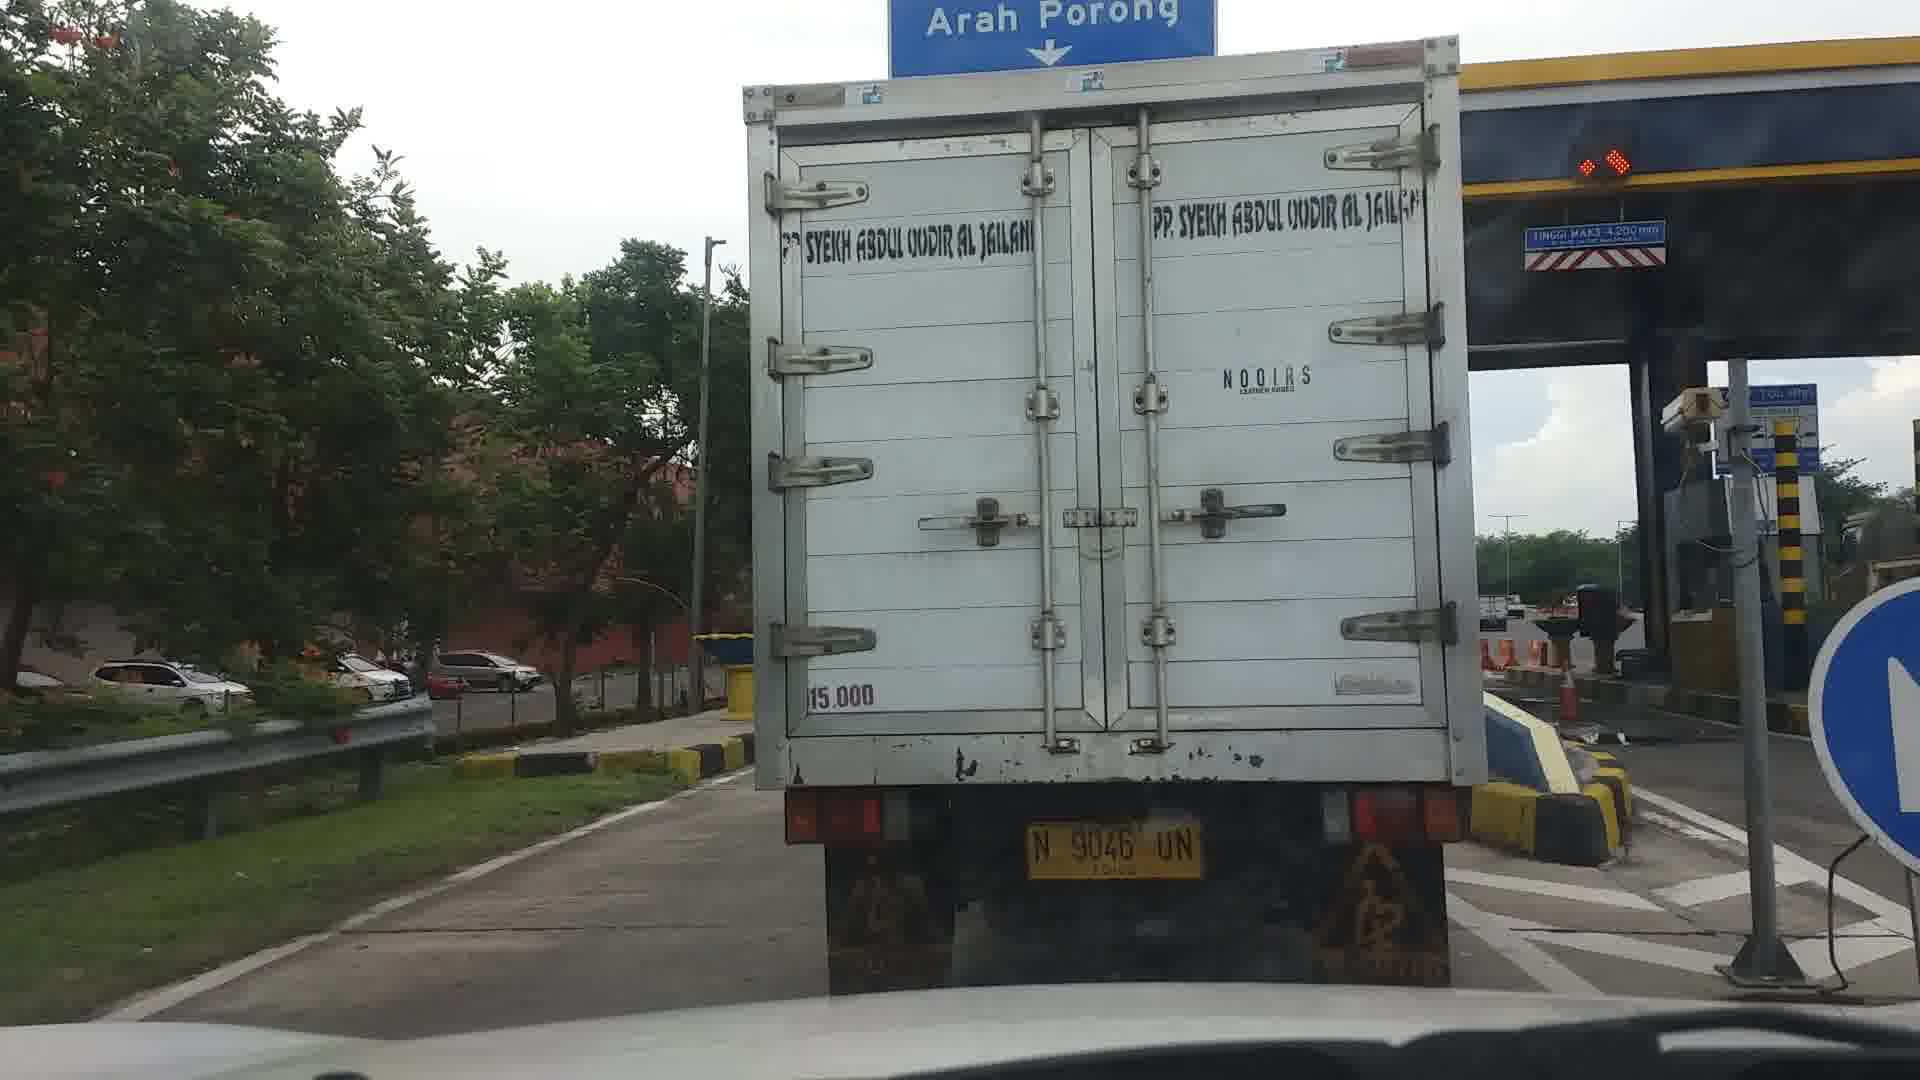plate_positive: (1025, 820, 1200, 880)
